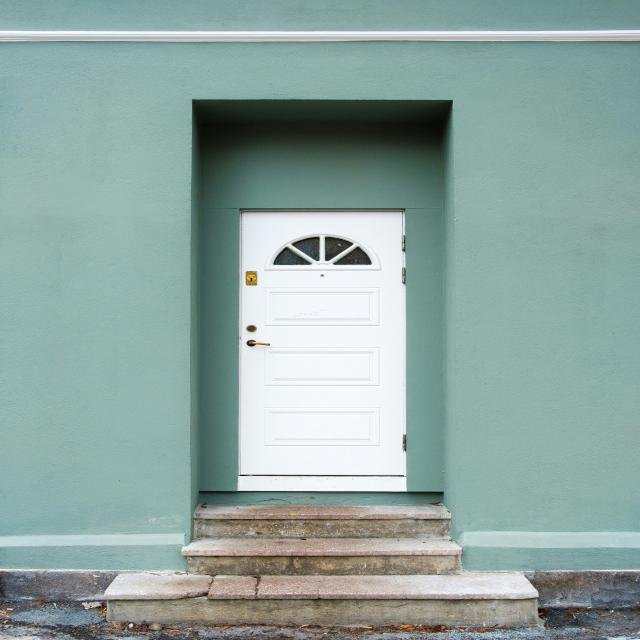door-handle: (246, 340, 270, 346)
